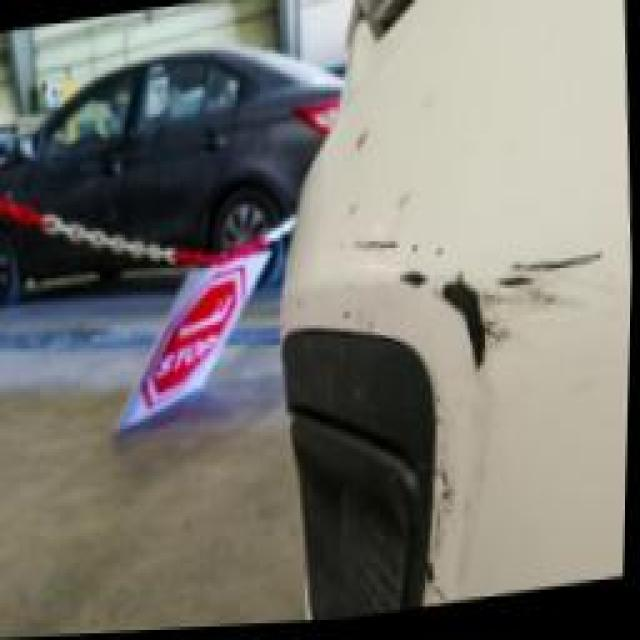Bumper: (298, 77, 629, 625)
